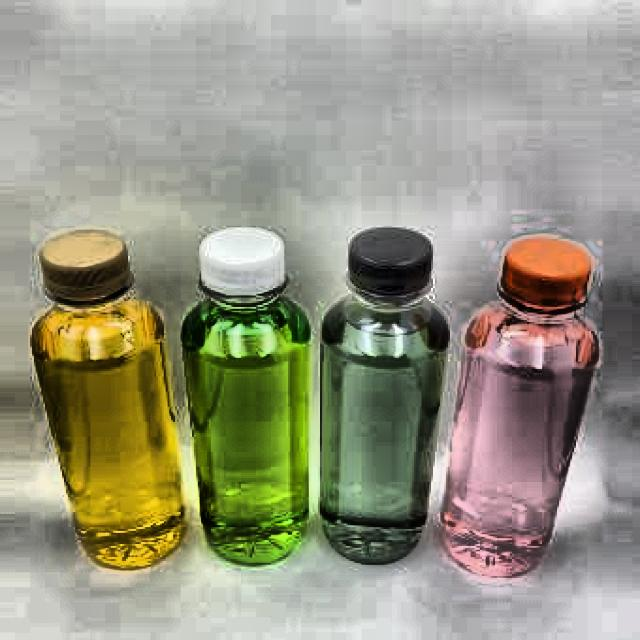Bottles: (417, 220, 621, 602), (9, 226, 200, 594), (152, 220, 329, 579), (302, 219, 454, 582)
